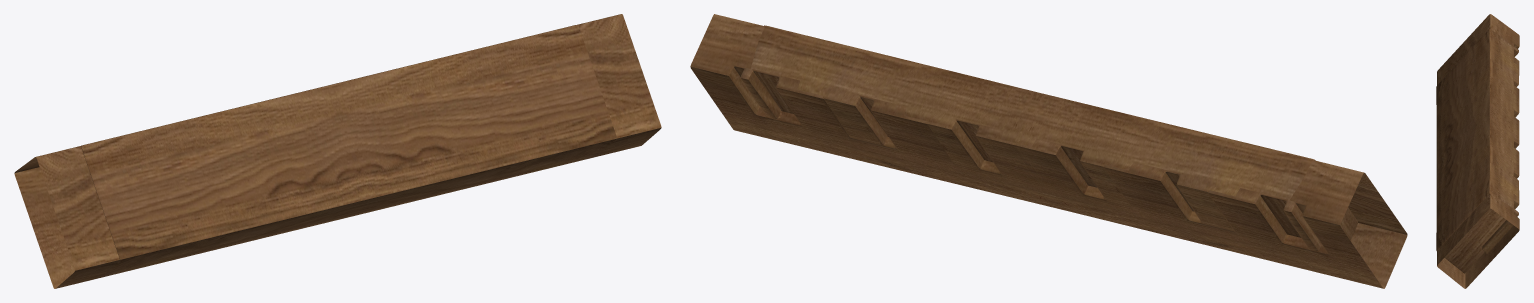
File: plank.007.gltf
The picture shows the model from 3 angles, left to right: view 1: azimuth 30°, elevation 25°; view 2: azimuth 150°, elevation 25°; view 3: azimuth 270°, elevation 25°; orthographic projection. The views are drawn at different scales.
Parts seen in each view (by area): view 1: plank.007; view 2: plank.007; view 3: plank.007.
Boxes of the visible parts, x1,y1,x2,y2 form: plank.007: (14,14,661,288); plank.007: (690,14,1407,288); plank.007: (1436,14,1519,288).
Size of the model in its own units: 0.3826 by 0.0742 by 0.0691.
1 material, 1 textured.
